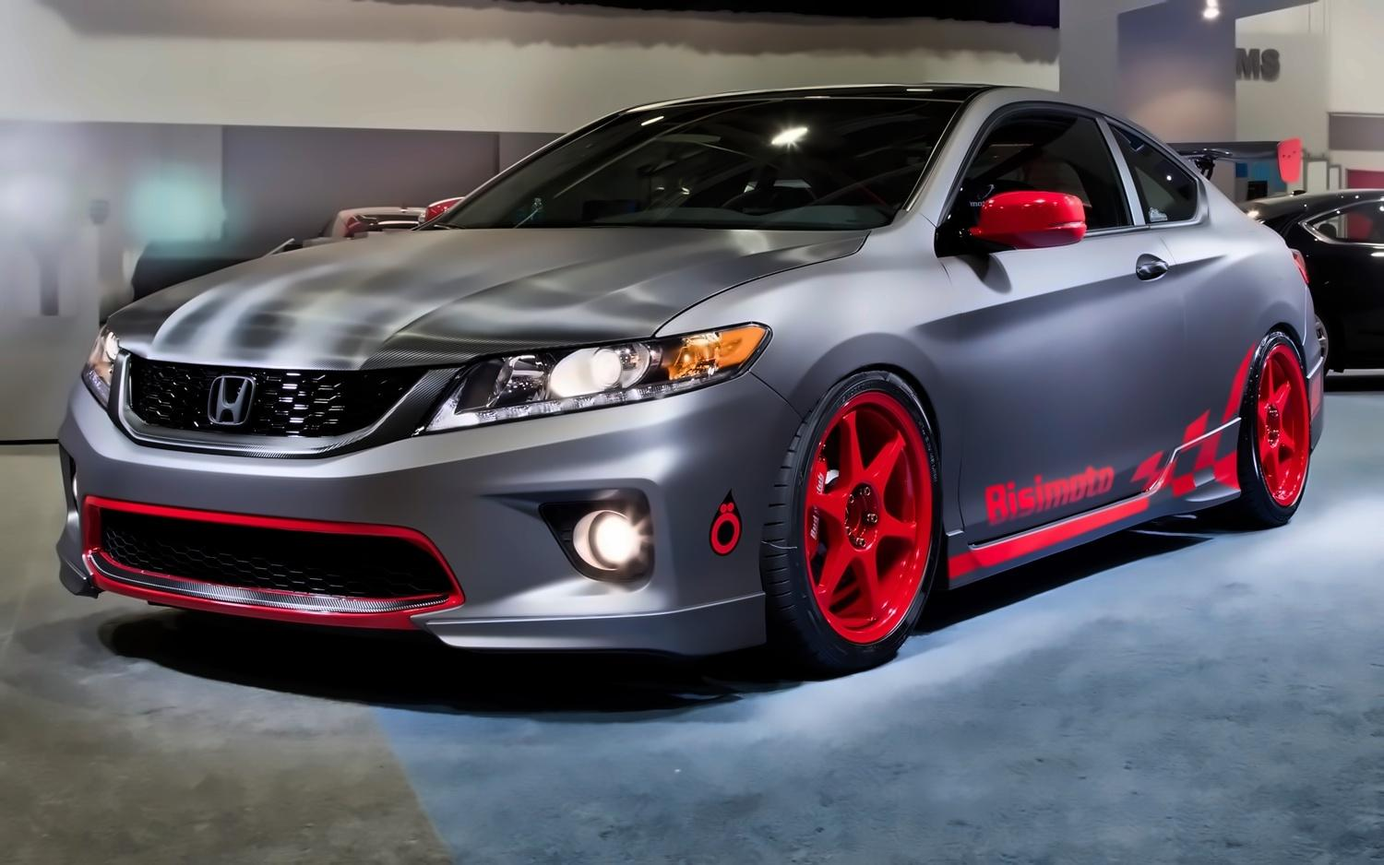Car hood: (95, 210, 878, 377)
Fender - -F-L-: (739, 204, 994, 611)
Fender - -R-L-: (1220, 208, 1326, 505)
Front bumper: (44, 388, 792, 671)
Headlight - -L-: (415, 307, 785, 442)
Headlight - -R-: (72, 302, 148, 419)
Passenger-s door - -F-L-: (958, 83, 1192, 557)
Rear bumper: (1295, 323, 1375, 482)
Rear light - -L-: (1283, 231, 1328, 298)
Side bumper - -L-: (934, 401, 1259, 595)
Side mirror - -L-: (969, 180, 1091, 262)
Side mirror - -R-: (399, 175, 490, 239)
